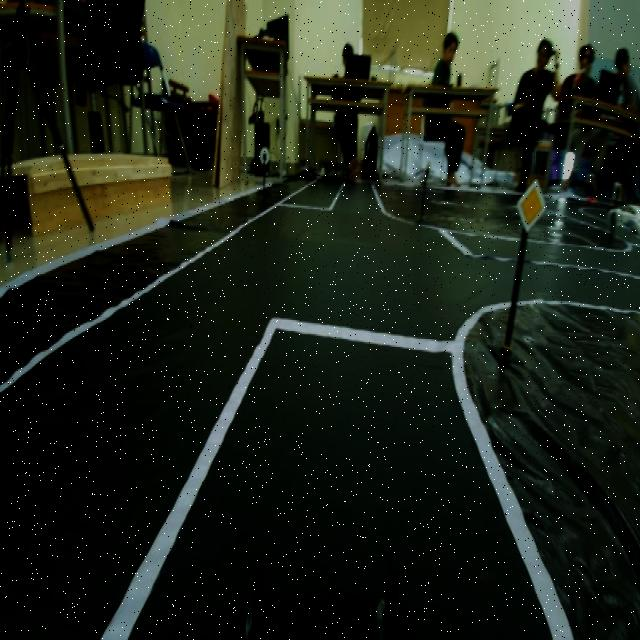priority: (512, 166, 550, 232)
